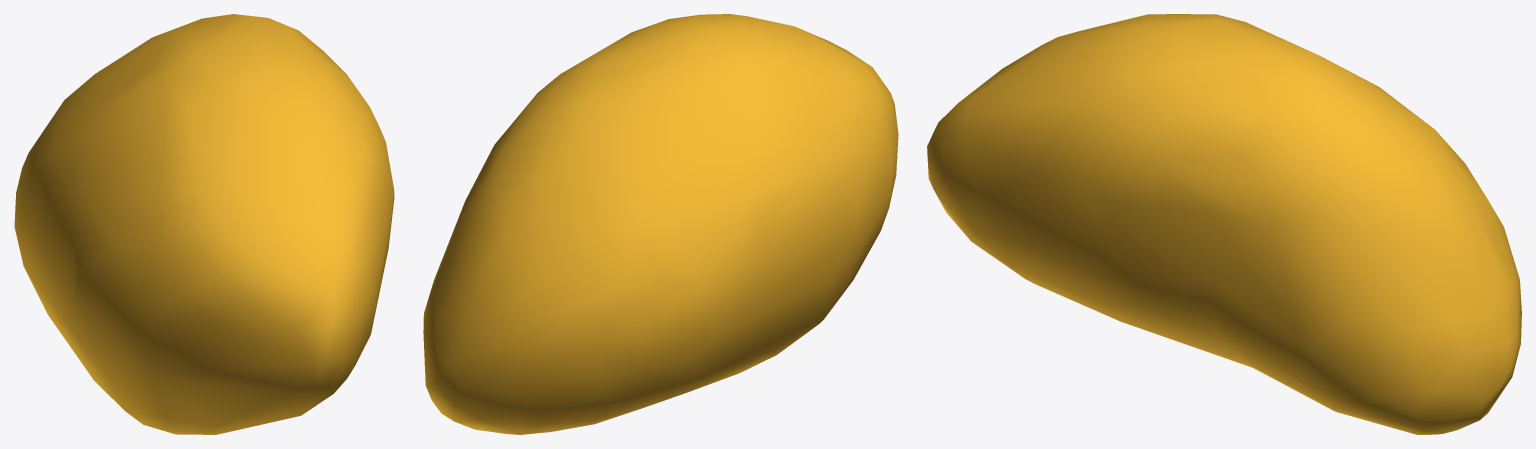
The model's file is nervoso-thalamus-l.glb.
3 renders of one model, left to right at view 1: azimuth 30°, elevation 25°; view 2: azimuth 150°, elevation 25°; view 3: azimuth 270°, elevation 25°, orthographic. The views are drawn at different scales.
Visible parts, largest first — view 1: Thalamus.l; view 2: Thalamus.l; view 3: Thalamus.l.
Part boxes in pixels (box(x1,y1,x2,y2)): Thalamus.l: box(14, 14, 394, 434); Thalamus.l: box(423, 14, 898, 434); Thalamus.l: box(927, 14, 1521, 434).
Bounding box in the file's own units: 0.0226 × 0.0229 × 0.0353.
